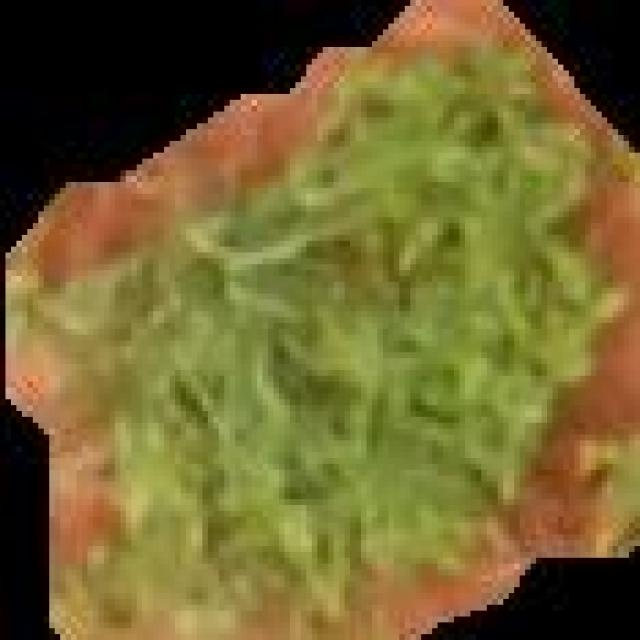Weed: (4, 1, 640, 640)
